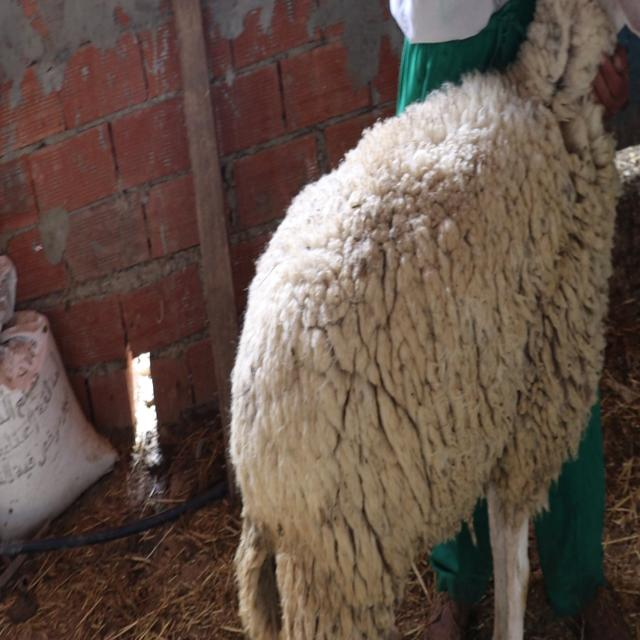Score_4: (229, 0, 640, 639)
